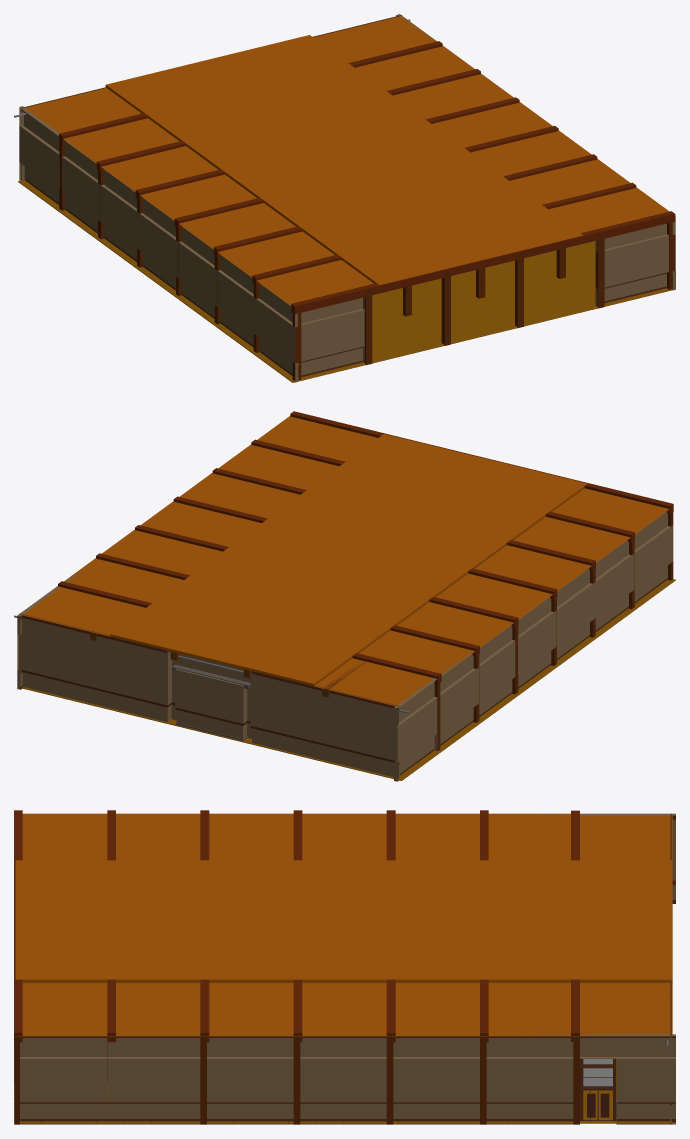
File: Dojo colour v3.fbx
3 renders of one model, top to bottom at view 1: azimuth 30°, elevation 25°; view 2: azimuth 150°, elevation 25°; view 3: azimuth 270°, elevation 25°, orthographic. The views are drawn at different scales.
Visible parts, largest first — view 1: Roof, Walls, Floor, Timber 2, Pillars, Wall Line 1; view 2: Roof, Gate Wall, Walls, Timber 2, Floor, Pillars, Top Wall Decor, Bottom Wall Decor, Wall Line 1; view 3: Roof, Walls, Timber 2, Wall Line 1, Pillars, Floor, Inside Line 1, Door, Panels.
Part boxes in pixels (x1,y1,x2,y2): Roof: [25, 16, 669, 305]; Walls: [19, 14, 675, 382]; Floor: [18, 180, 672, 382]; Timber 2: [59, 41, 675, 313]; Pillars: [59, 142, 675, 380]; Wall Line 1: [25, 15, 666, 377]; Roof: [22, 416, 669, 706]; Gate Wall: [19, 618, 399, 778]; Walls: [17, 511, 673, 781]; Timber 2: [58, 411, 673, 683]; Floor: [22, 579, 675, 780]; Pillars: [434, 512, 673, 750]; Top Wall Decor: [19, 613, 399, 709]; Bottom Wall Decor: [22, 670, 395, 762]; Wall Line 1: [17, 578, 667, 775]; Roof: [15, 813, 672, 1036]; Walls: [14, 813, 675, 1124]; Timber 2: [14, 810, 579, 1042]; Wall Line 1: [14, 815, 675, 1122]; Pillars: [14, 1036, 579, 1124]; Floor: [14, 1058, 672, 1123]; Inside Line 1: [14, 882, 675, 1103]; Door: [580, 1058, 616, 1121]; Panels: [583, 1059, 612, 1086].
Size of the model in its own units: 609 by 112 by 737.
